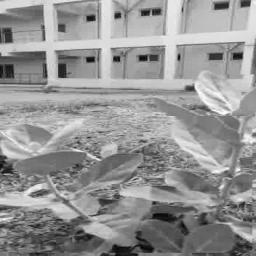Calotropis: (0, 116, 253, 253), (167, 74, 255, 118)
